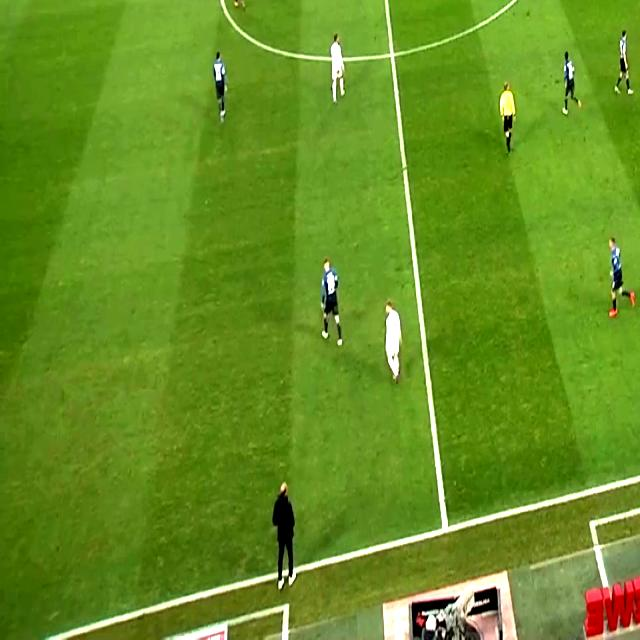referee: (494, 80, 524, 160)
soccer-player: (602, 230, 640, 322), (315, 253, 351, 349), (375, 299, 410, 388), (324, 32, 353, 110), (208, 46, 235, 126), (556, 49, 584, 122), (612, 27, 639, 101), (218, 0, 250, 12)
